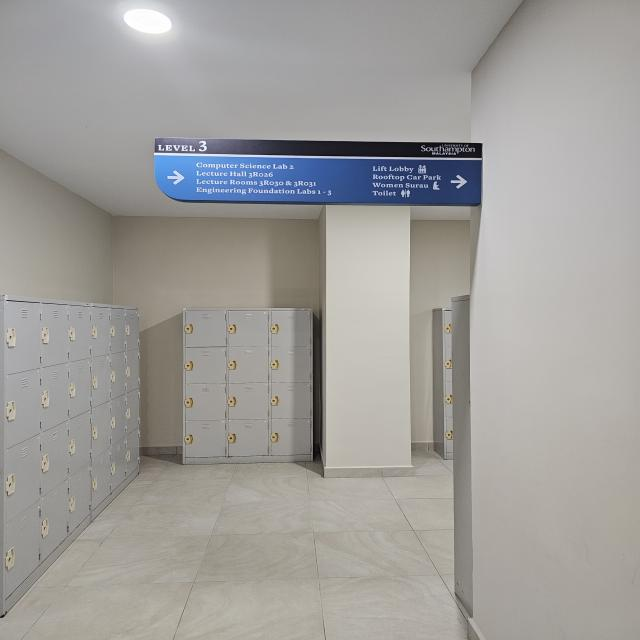footpath: (82, 467, 467, 640)
obstacle: (0, 287, 148, 568), (180, 306, 317, 466)
